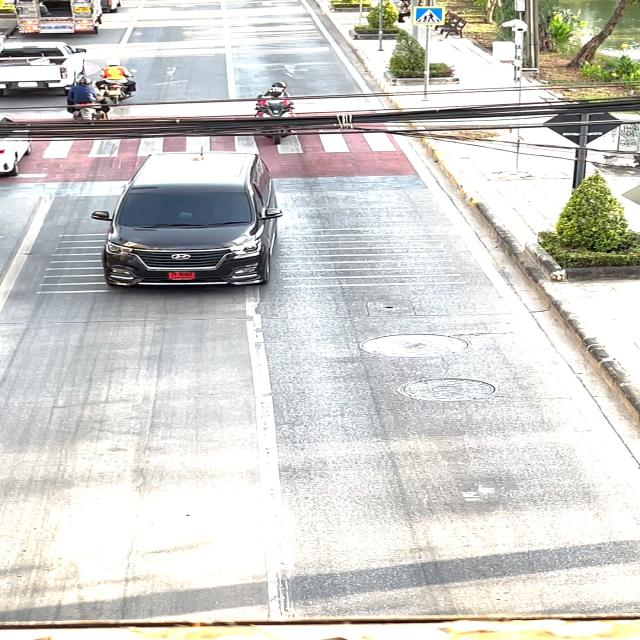car: (66, 137, 298, 302)
